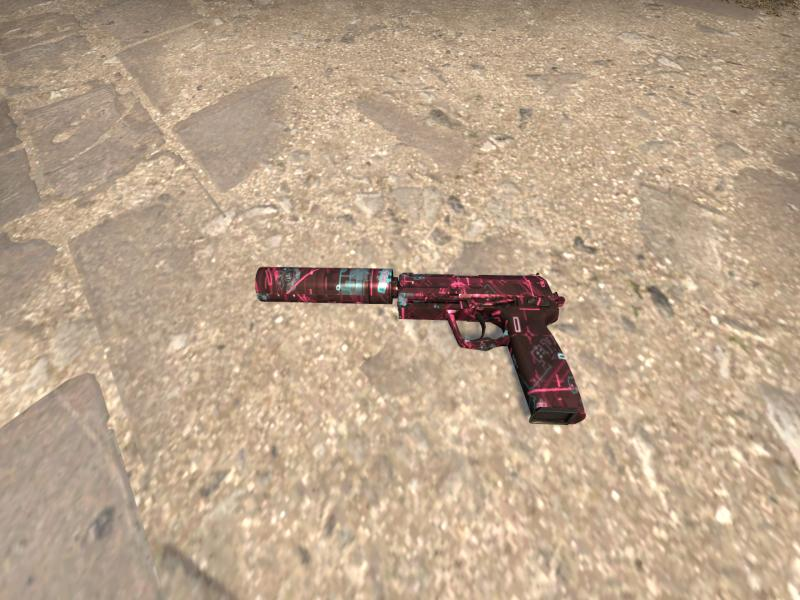USP: (255, 267, 586, 424)
